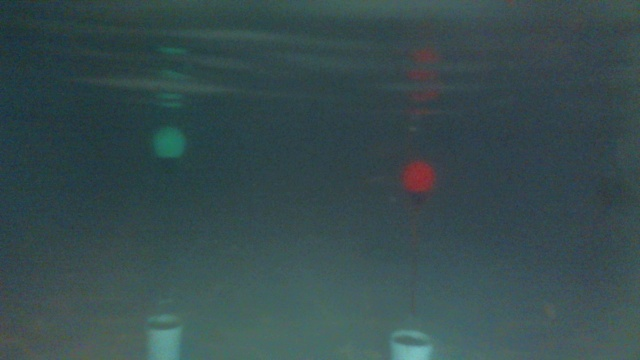buoy_green: (152, 123, 184, 171)
buoy_red: (400, 156, 434, 202)
